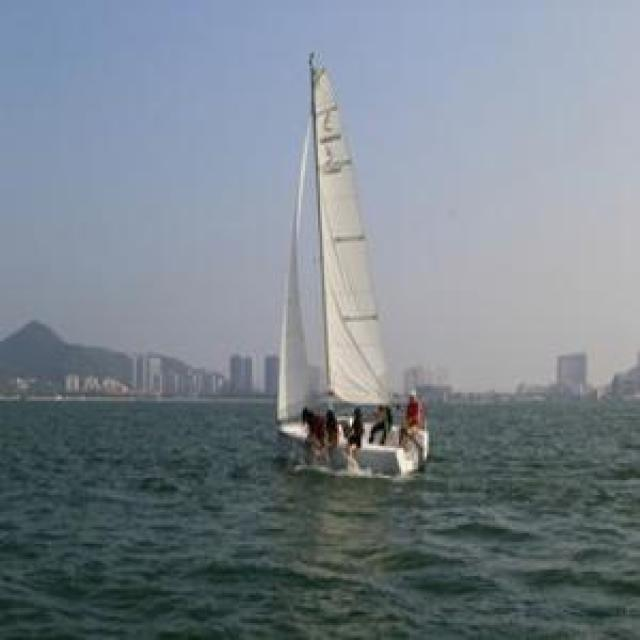sailboat: (272, 46, 439, 480)
